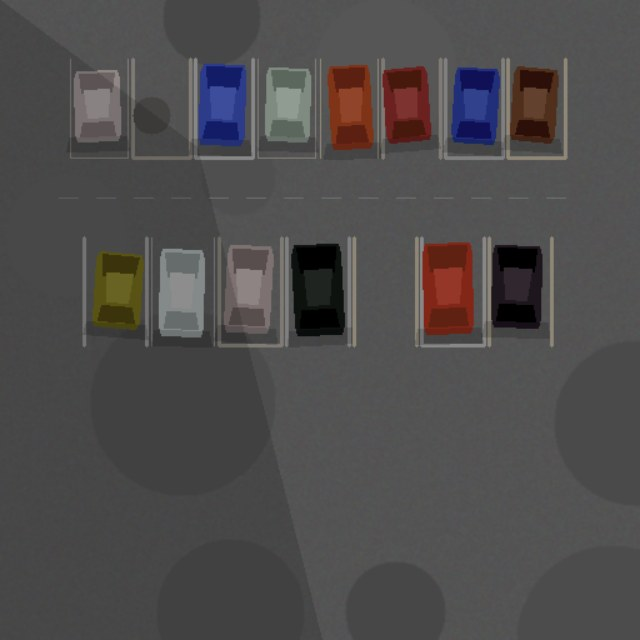space-empty: (354, 237, 416, 345), (132, 59, 190, 157)
space-occupied: (151, 237, 214, 345), (286, 237, 349, 345), (421, 237, 484, 345), (84, 237, 146, 345), (219, 237, 281, 345), (489, 237, 551, 345), (70, 59, 128, 157), (320, 59, 378, 157), (382, 59, 440, 157), (195, 59, 252, 157), (258, 59, 315, 157), (445, 59, 502, 157), (508, 59, 565, 157)
